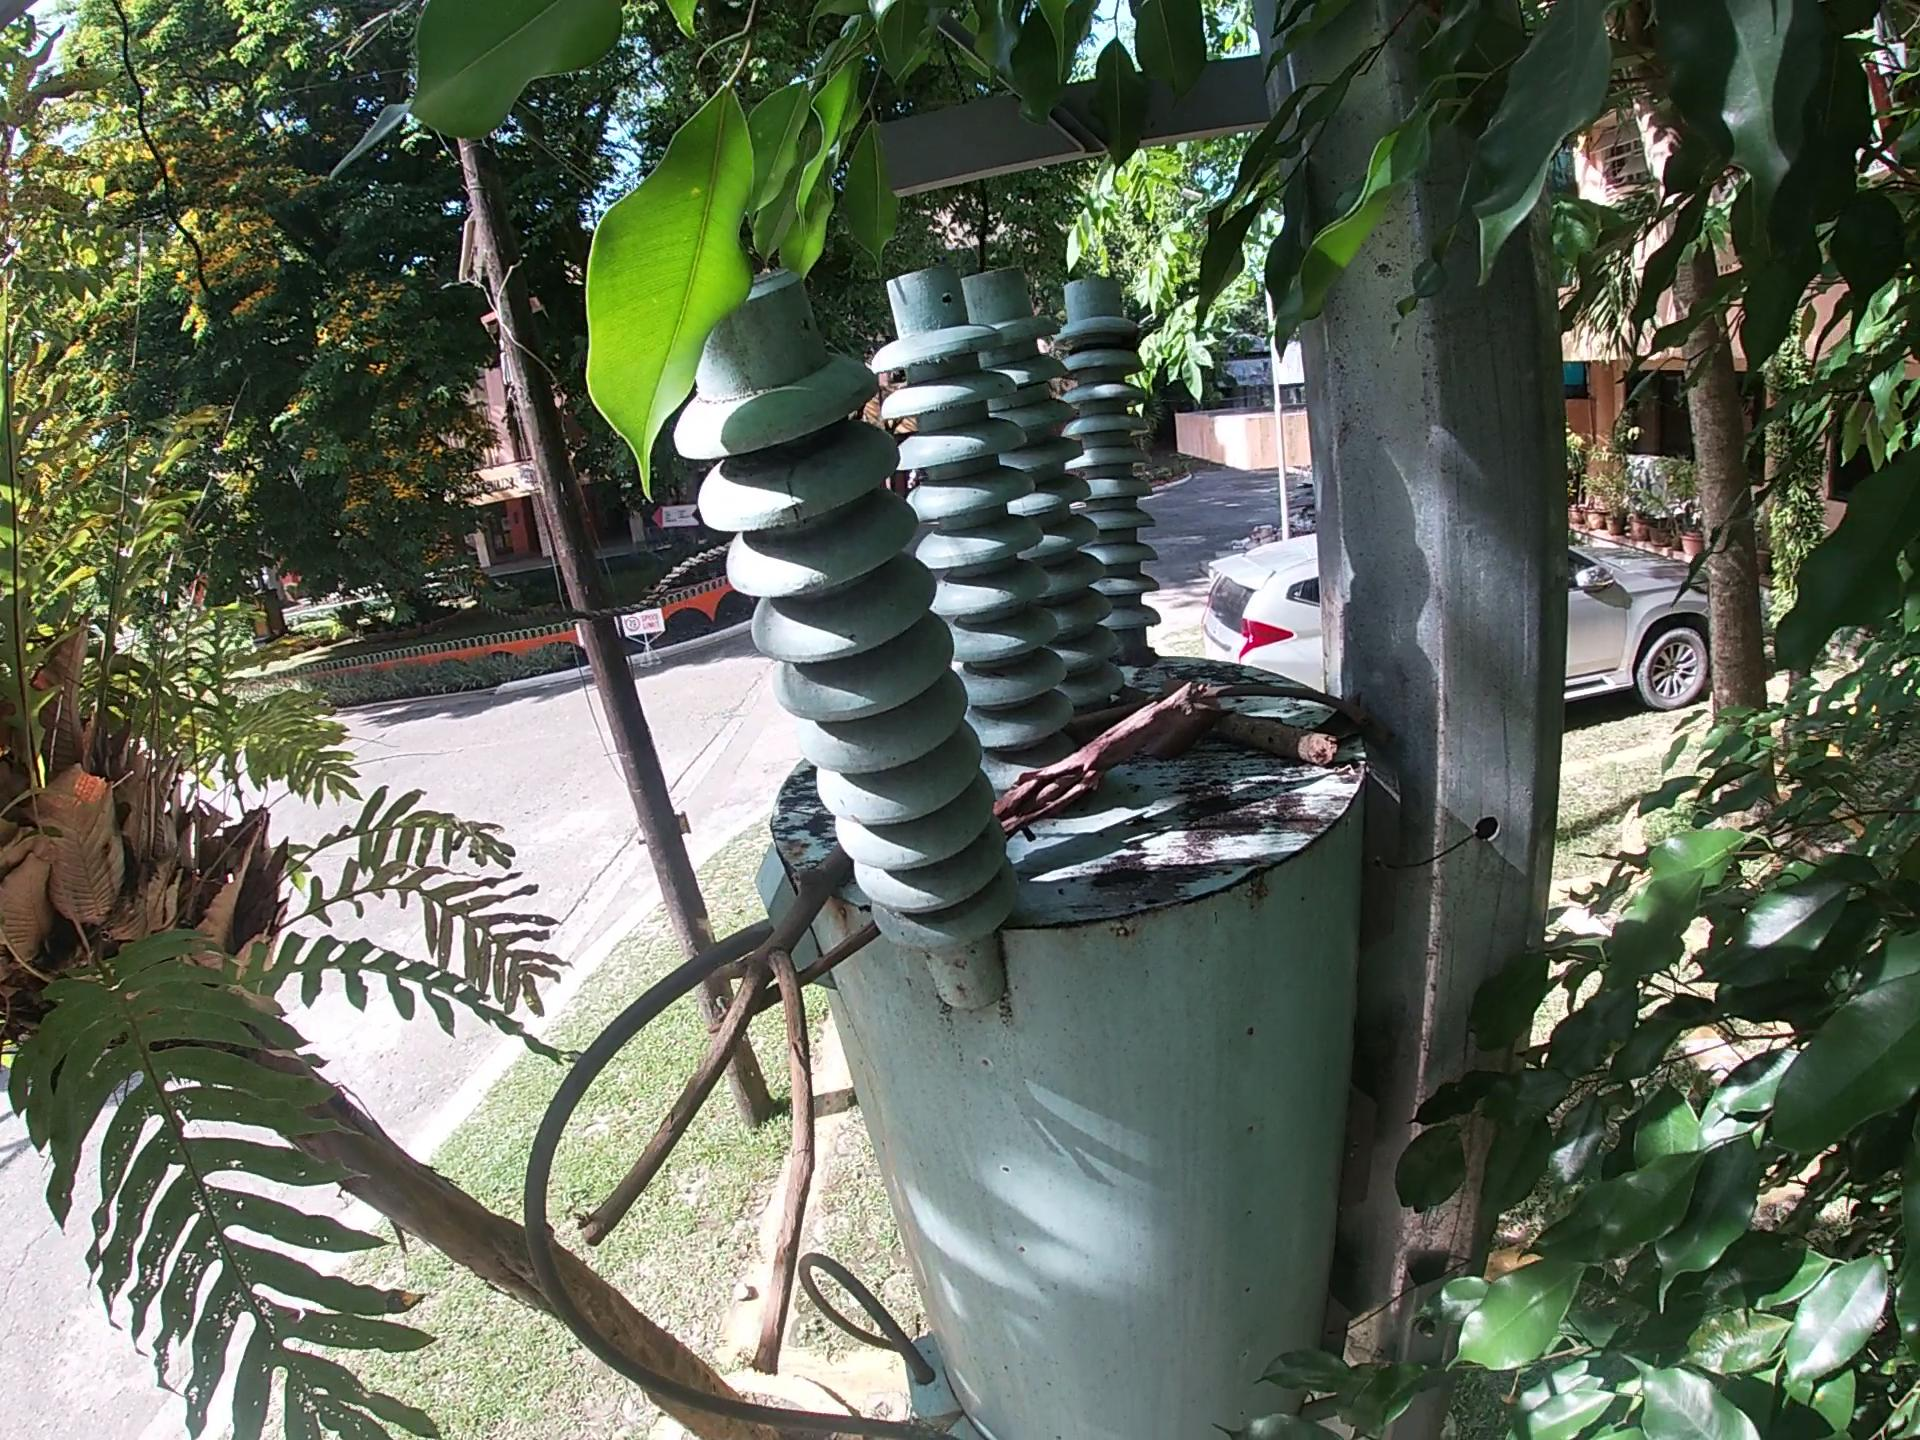tree branch: (505, 855, 880, 1392), (996, 672, 1217, 824), (1093, 684, 1353, 774), (1058, 682, 1417, 728)
